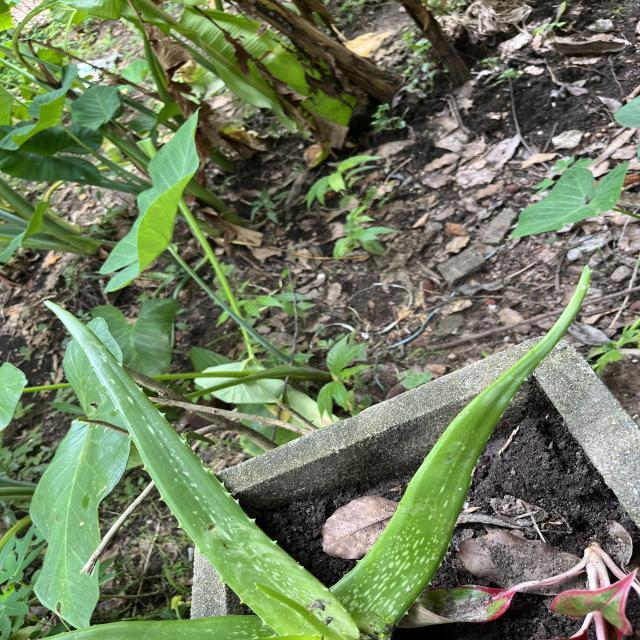Aloe vera: (43, 297, 370, 640), (337, 265, 602, 631)
